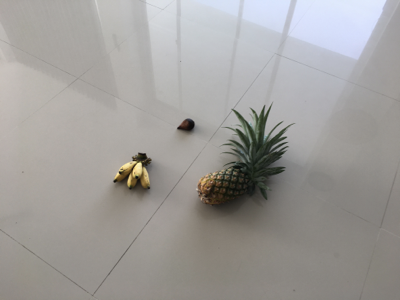banana: (113, 151, 153, 194)
pineapple: (197, 103, 297, 208)
snake fruit: (177, 118, 196, 134)
